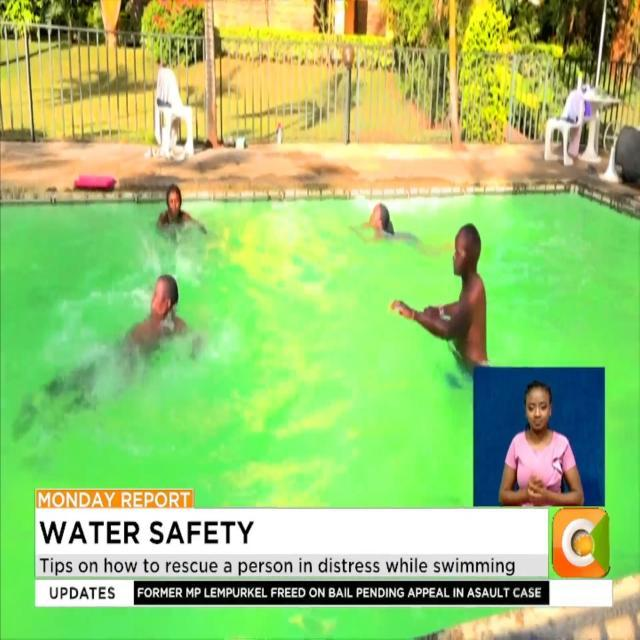drowning: (57, 290, 199, 415)
swimming: (398, 195, 502, 397), (341, 174, 412, 254), (150, 184, 209, 254)
